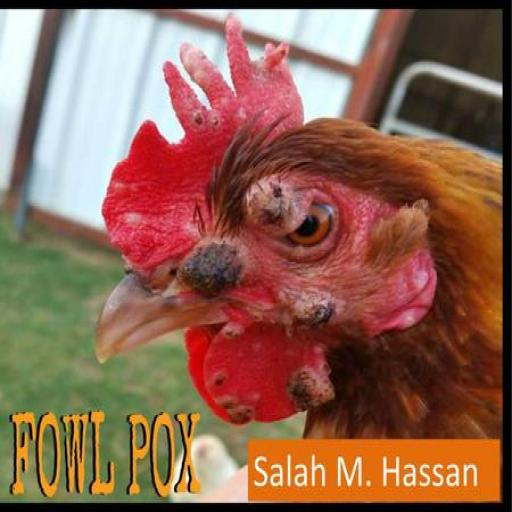disease: (139, 15, 310, 193), (184, 283, 353, 430), (220, 160, 359, 276), (174, 223, 260, 314)
